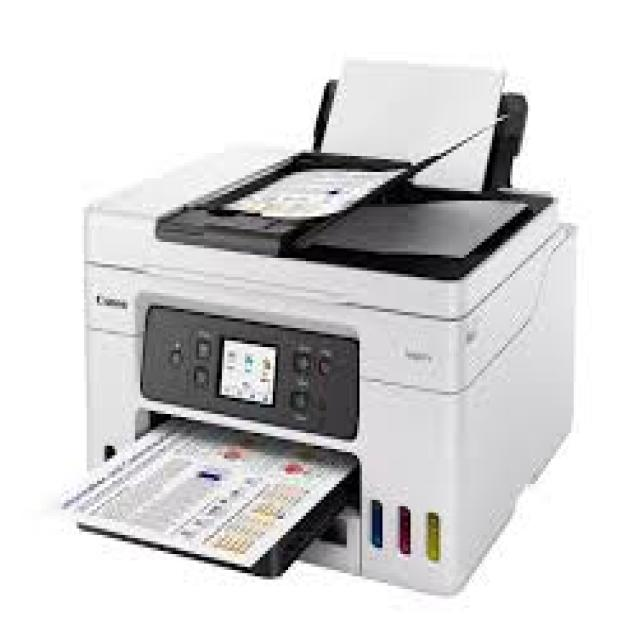printer: (61, 54, 576, 596)
